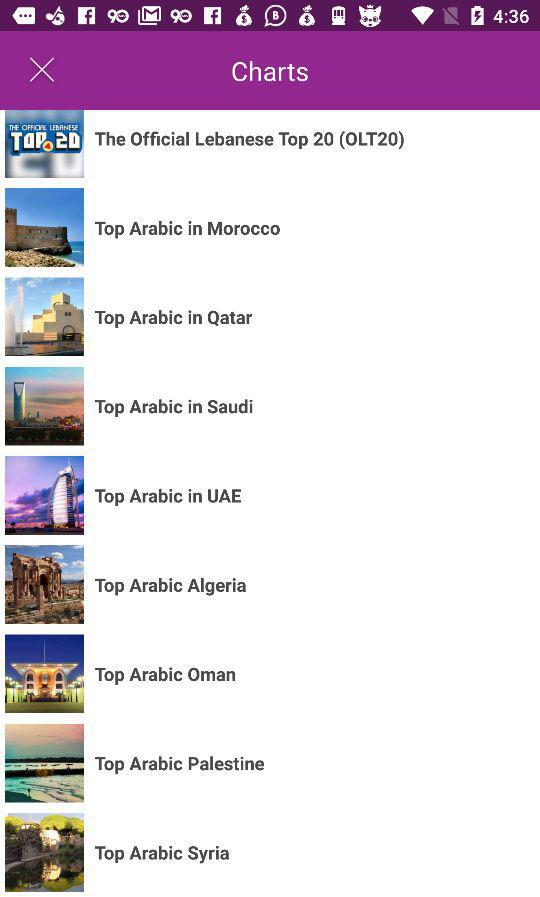Icon: (30, 57, 56, 83)
Image: (6, 545, 85, 625), (6, 456, 85, 536), (5, 368, 85, 447), (6, 277, 85, 357), (6, 188, 85, 268), (6, 813, 85, 892), (6, 724, 85, 803), (6, 635, 85, 714), (6, 111, 85, 179)
Text: (95, 132, 405, 151), (95, 221, 281, 240), (95, 755, 265, 775), (95, 309, 253, 329), (95, 577, 247, 597), (95, 399, 254, 418), (95, 666, 236, 686), (95, 488, 242, 507), (94, 845, 229, 864), (232, 61, 310, 84)
Toolbar: (1, 32, 540, 111)
UpperTaskBar: (1, 1, 540, 33)
